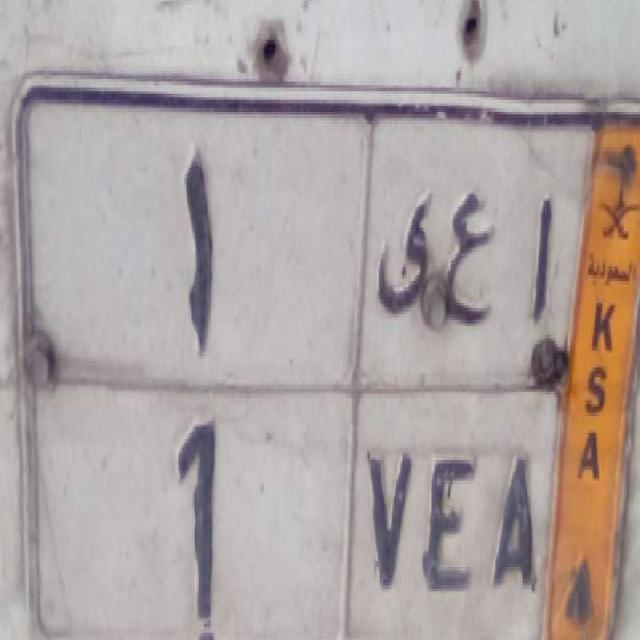license_plate: (14, 369, 559, 640)
